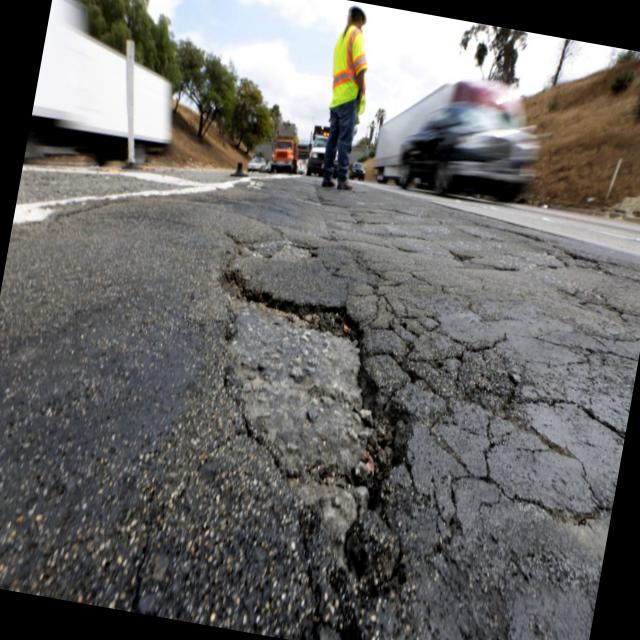Potholes: (135, 227, 534, 640)
